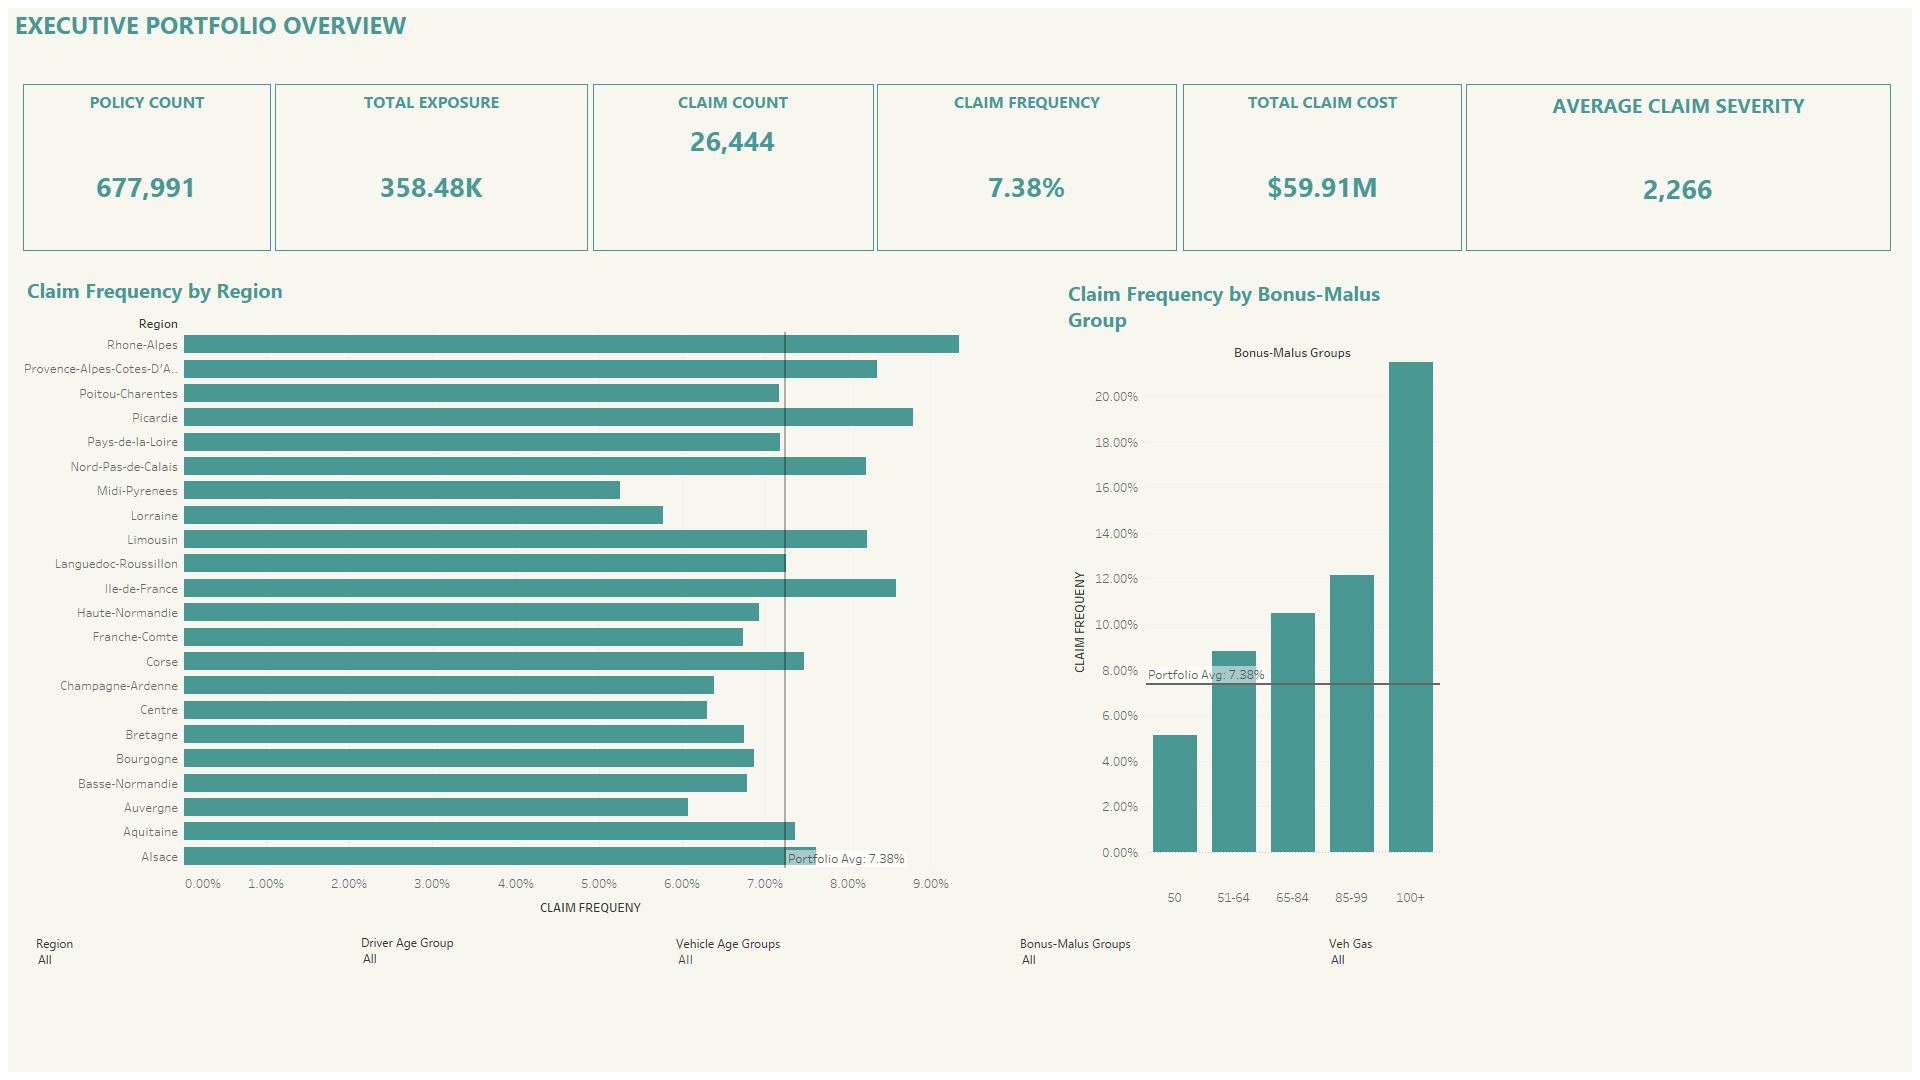

The dashboard page shown, as its layout file describes it:
{"tool":"tableau","page":{"name":"EXECUTIVE  PORTFOLIO OVERVIEW 2","canvas":[1920,1080],"ordinal":2},"visuals":[{"type":"title","box":[8,8,1904,32]},{"type":"worksheet","title":"KPI-TOTAL EXPOSURE","mark":"Automatic","box":[274.6,83.7,313,167.4]},{"type":"worksheet","title":"KPI-CLAIM COUNT","mark":"Automatic","box":[593.3,83.7,280.3,167.4]},{"type":"worksheet","title":"KPI-POLICY COUNT","mark":"Automatic","box":[23,84,248,167]},{"type":"worksheet","title":"KPI-CLAIM FREQUENCY","mark":"Automatic","box":[877,84,300,167]},{"type":"worksheet","title":"KPI-TOTAL CLAIM COST","mark":"Automatic","box":[1183,84,279,167]},{"type":"worksheet","title":"KPI 6 — Average Claim Severity","mark":"Text","box":[1466,84,425,167]},{"type":"worksheet","title":"Region - Claim Frequency","mark":"Automatic","rows":["Region"],"cols":["Calculation_642325937033326593"],"box":[23,270,975.4,653.4]},{"type":"worksheet","title":"Claim Frequency by Bonus-Malus Group","mark":"Automatic","rows":["Calculation_642325937033326593"],"cols":["Bonus-Malus Groups"],"box":[1063.7,272.7,835.2,633.1]},{"type":"filter","title":"Region - Claim Frequency","param":"[federated.18uo1km0bj8vc511p4zme0fl5e8z].[none:VehGas:nk]","box":[1328.6,934.2,307.2,109.4]}]}

Visuals, with their boxes in screenshot pixels (x1, y1, x2, y2), scaled from the page's 1920x1080 canvas onto the 1920x1080 screenshot:
title: select_region(8, 8, 1912, 40)
"KPI-TOTAL EXPOSURE" worksheet: select_region(275, 84, 588, 251)
"KPI-CLAIM COUNT" worksheet: select_region(593, 84, 874, 251)
"KPI-POLICY COUNT" worksheet: select_region(23, 84, 271, 251)
"KPI-CLAIM FREQUENCY" worksheet: select_region(877, 84, 1177, 251)
"KPI-TOTAL CLAIM COST" worksheet: select_region(1183, 84, 1462, 251)
"KPI 6 — Average Claim Severity" worksheet (Text marks): select_region(1466, 84, 1891, 251)
"Region - Claim Frequency" worksheet: select_region(23, 270, 998, 923)
"Claim Frequency by Bonus-Malus Group" worksheet: select_region(1064, 273, 1899, 906)
"Region - Claim Frequency" filter: select_region(1329, 934, 1636, 1044)
